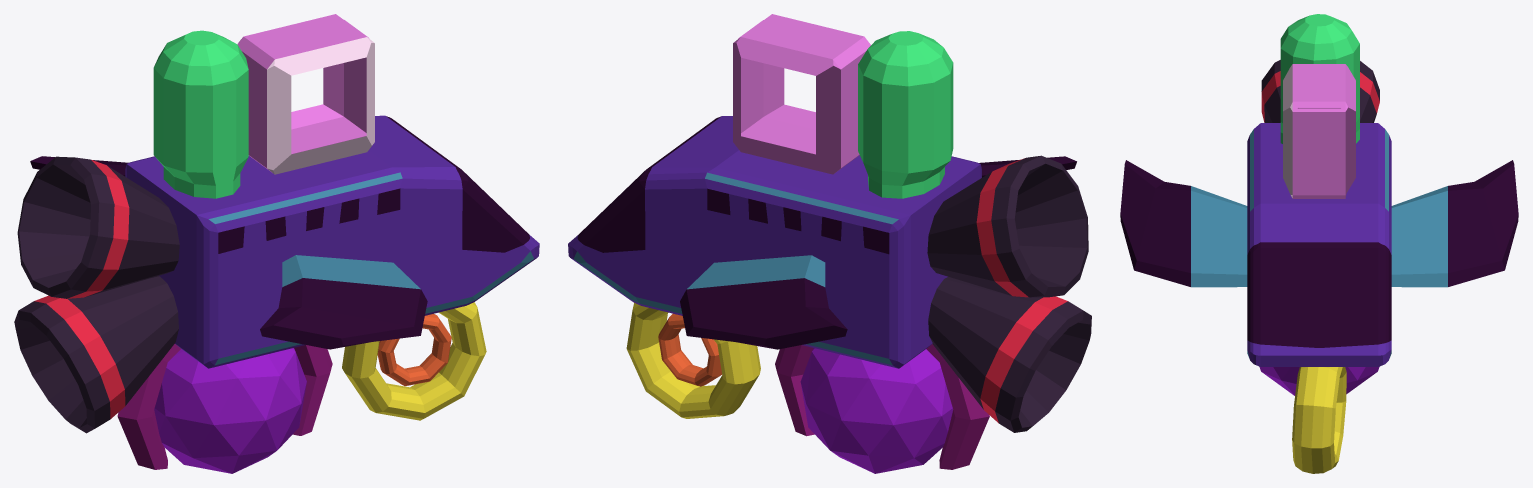
The model's file is spaceship.fbx.
The picture shows the model from 3 angles, left to right: view 1: azimuth 30°, elevation 25°; view 2: azimuth 150°, elevation 25°; view 3: azimuth 270°, elevation 25°; orthographic projection. The views are drawn at different scales.
Visible parts, largest first — view 1: cockpit, thrusterupper, thrusterlower, baseship.001, garden, Container.001, WaterTank, wings, generator, Container, Torus.001; view 2: cockpit, thrusterupper, baseship.001, thrusterlower, garden, Container.001, WaterTank, wings, generator, Container, Torus.001; view 3: wings, baseship.001, garden, cockpit, generator, WaterTank, thrusterupper, Container.001.
Part boxes in pixels (left/top/right/bottom): cockpit: left=125, top=150, right=402, bottom=368; thrusterupper: left=17, top=156, right=179, bottom=298; thrusterlower: left=14, top=276, right=178, bottom=433; baseship.001: left=369, top=115, right=539, bottom=315; garden: left=237, top=14, right=374, bottom=174; Container.001: left=154, top=348, right=306, bottom=473; WaterTank: left=153, top=30, right=248, bottom=198; wings: left=30, top=156, right=427, bottom=349; generator: left=342, top=302, right=486, bottom=420; Container: left=117, top=344, right=332, bottom=469; Torus.001: left=377, top=313, right=451, bottom=386; cockpit: left=705, top=150, right=981, bottom=368; thrusterupper: left=927, top=155, right=1088, bottom=297; baseship.001: left=568, top=116, right=738, bottom=315; thrusterlower: left=928, top=277, right=1091, bottom=432; garden: left=733, top=14, right=870, bottom=174; Container.001: left=800, top=348, right=953, bottom=473; WaterTank: left=858, top=31, right=953, bottom=198; wings: left=680, top=156, right=1076, bottom=349; generator: left=626, top=302, right=760, bottom=418; Container: left=775, top=344, right=989, bottom=469; Torus.001: left=658, top=313, right=721, bottom=386; wings: left=1120, top=160, right=1518, bottom=287; baseship.001: left=1247, top=203, right=1391, bottom=366; garden: left=1283, top=64, right=1355, bottom=198; cockpit: left=1247, top=123, right=1391, bottom=215; generator: left=1292, top=367, right=1346, bottom=473; WaterTank: left=1280, top=14, right=1359, bottom=143; thrusterupper: left=1261, top=60, right=1379, bottom=122; Container.001: left=1259, top=366, right=1379, bottom=395.
Bounding box in the file's own units: 629 × 558 × 551.
